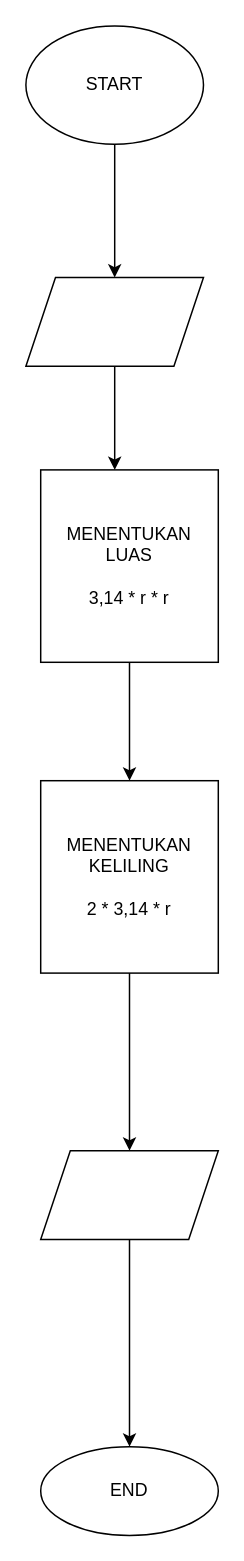
Image size: 244x1561. Some labels were removed from this diagram. The centre of each missing label's shape, as x and y in pixels:
"INPUT r (Jari-Jari)" belongs at point (114, 321).
"Luas dan Keliling Lingkaran" belongs at point (128, 1194).
